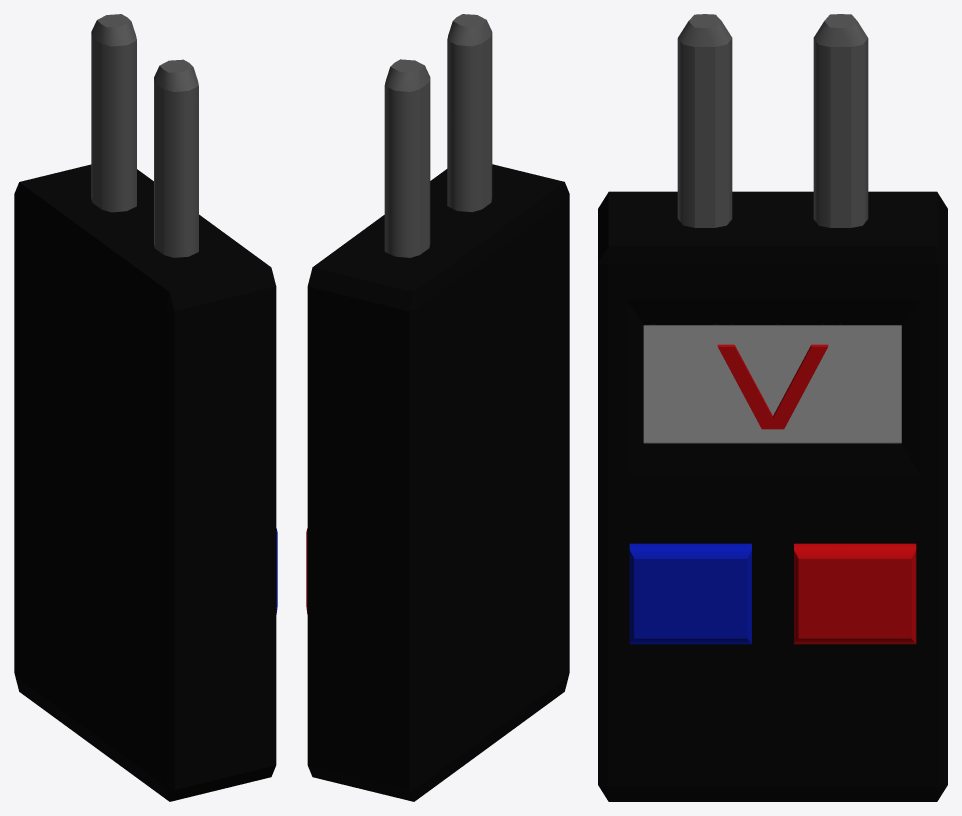
The model's file is voltage tester.fbx.
The picture shows the model from 3 angles, left to right: view 1: azimuth 30°, elevation 25°; view 2: azimuth 150°, elevation 25°; view 3: azimuth 270°, elevation 25°; orthographic projection. The views are drawn at different scales.
Parts seen in each view (by area): view 1: Cube; view 2: Cube; view 3: Cube.
Boxes of the visible parts, x1,y1,x2,y2 form: Cube: (14,14,277,801); Cube: (306,14,569,801); Cube: (598,14,947,801).
Size of the model in its own units: 113 by 604 by 254.
